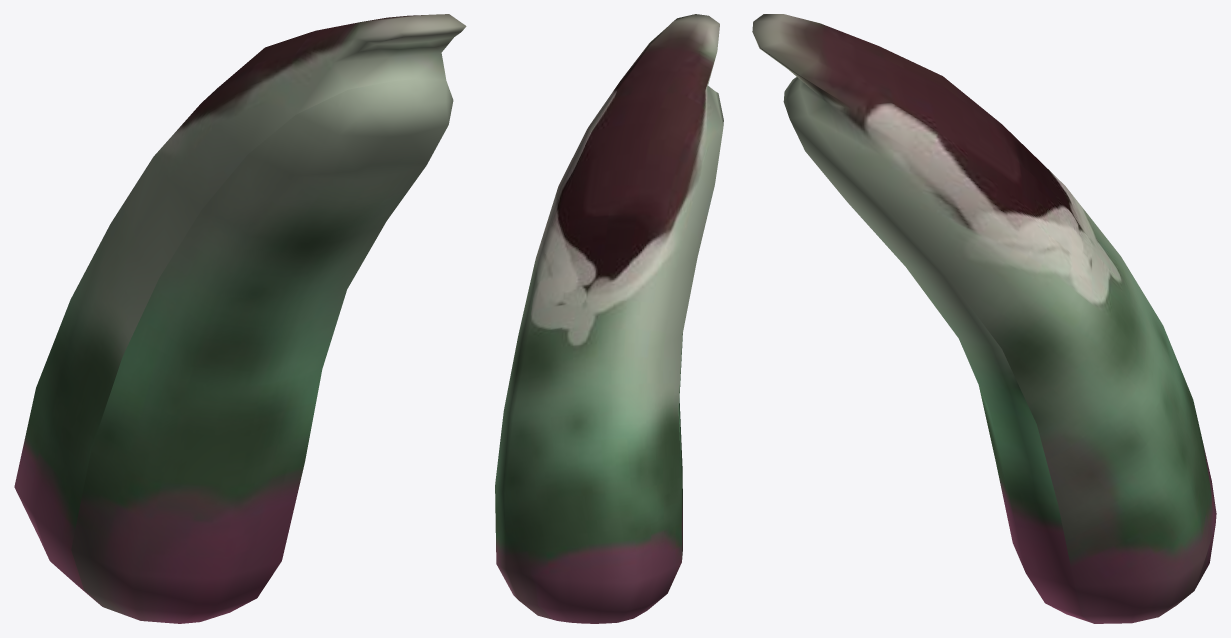
File: finger_mesh.fbx
The picture shows the model from 3 angles, left to right: view 1: azimuth 30°, elevation 25°; view 2: azimuth 150°, elevation 25°; view 3: azimuth 270°, elevation 25°; orthographic projection. The views are drawn at different scales.
Visible parts, largest first — view 1: Donuts_Z.002; view 2: Donuts_Z.002; view 3: Donuts_Z.002.
Part boxes in pixels (x1=…): Donuts_Z.002: x1=14, y1=14, x2=466, y2=623; Donuts_Z.002: x1=495, y1=14, x2=723, y2=623; Donuts_Z.002: x1=752, y1=14, x2=1216, y2=623.
Bounding box in the file's own units: 10.56 × 29.04 × 20.35.
